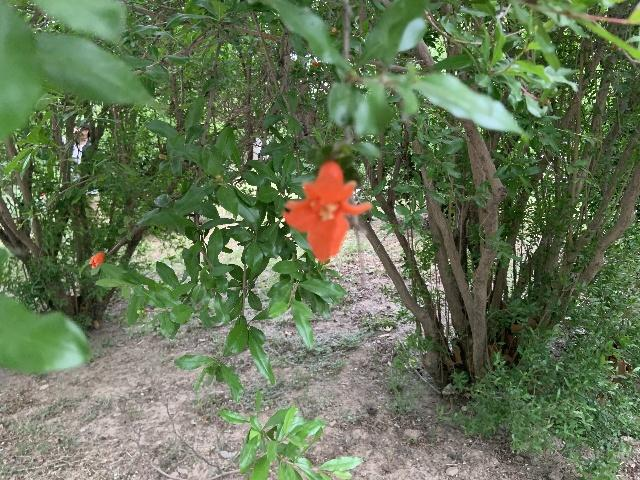bud: (312, 61, 318, 66)
flower: (283, 160, 372, 262), (89, 252, 105, 268)
